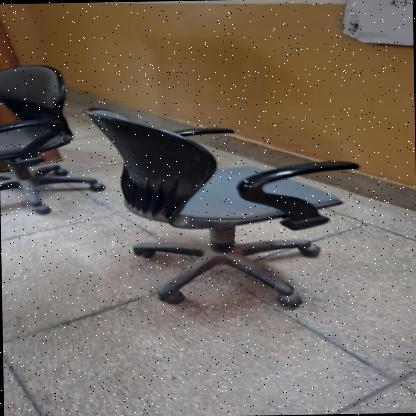chair: (90, 92, 364, 315)
